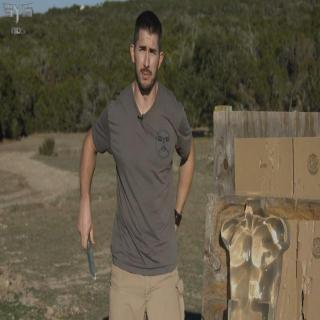knife: (77, 217, 99, 287)
